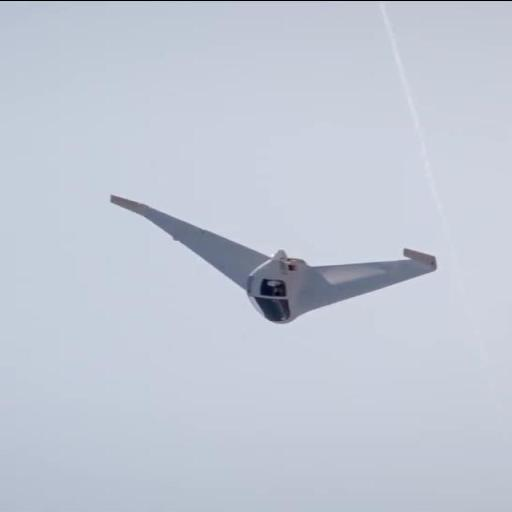uav: (102, 190, 448, 328)
